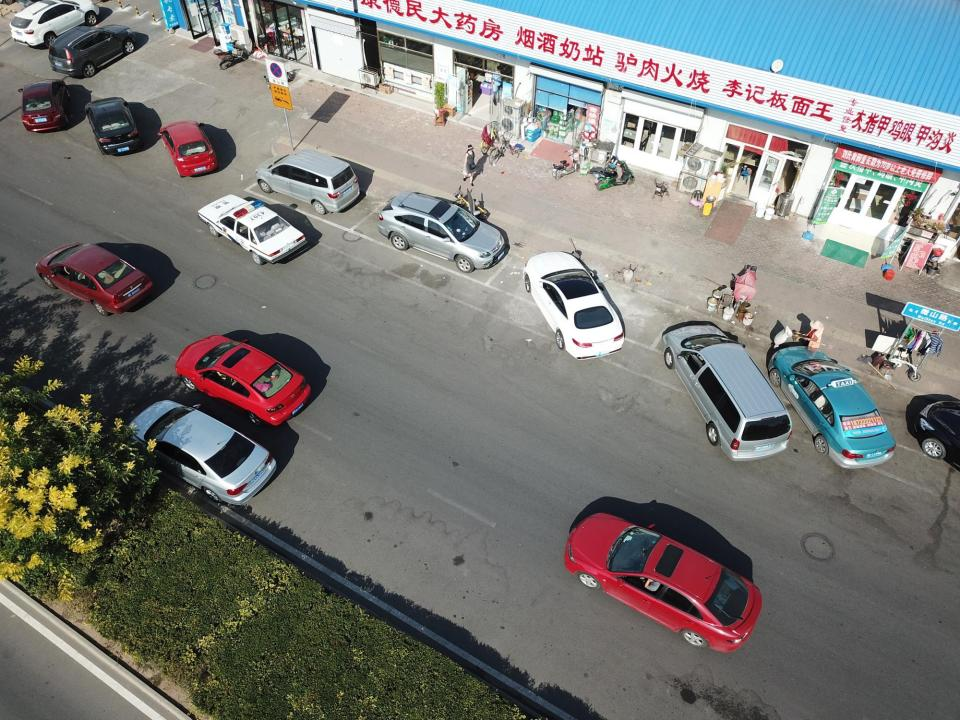car: (563, 510, 764, 655), (767, 343, 897, 470), (125, 398, 279, 505), (173, 334, 313, 429), (522, 251, 624, 361), (377, 190, 508, 274), (36, 241, 154, 318), (197, 192, 308, 264), (47, 24, 137, 78), (8, 0, 100, 48), (158, 119, 220, 179), (84, 96, 142, 156), (18, 78, 72, 132)
van: (660, 322, 792, 462), (254, 148, 361, 215)
